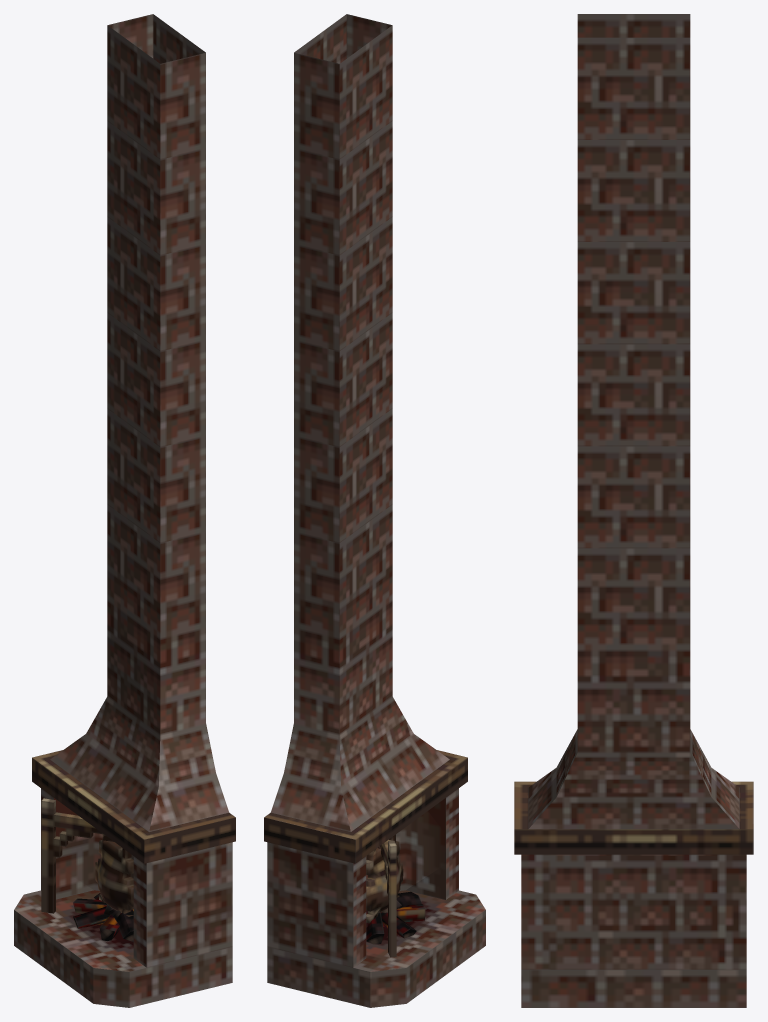
Rendered from ObjMD_Fireplace_C.FBX.
3 views of the same model, side by side, from view 1: azimuth 30°, elevation 25°; view 2: azimuth 150°, elevation 25°; view 3: azimuth 270°, elevation 25° (orthographic). The views are drawn at different scales.
Visible parts, largest first — view 1: ObjMD_Fireplace_C; view 2: ObjMD_Fireplace_C; view 3: ObjMD_Fireplace_C.
Part boxes in pixels (box(x1,y1,x2,y2)): ObjMD_Fireplace_C: box(14, 14, 235, 1007); ObjMD_Fireplace_C: box(264, 14, 485, 1007); ObjMD_Fireplace_C: box(514, 14, 753, 1007).
Bounding box in the file's own units: 138 × 950 × 212.
